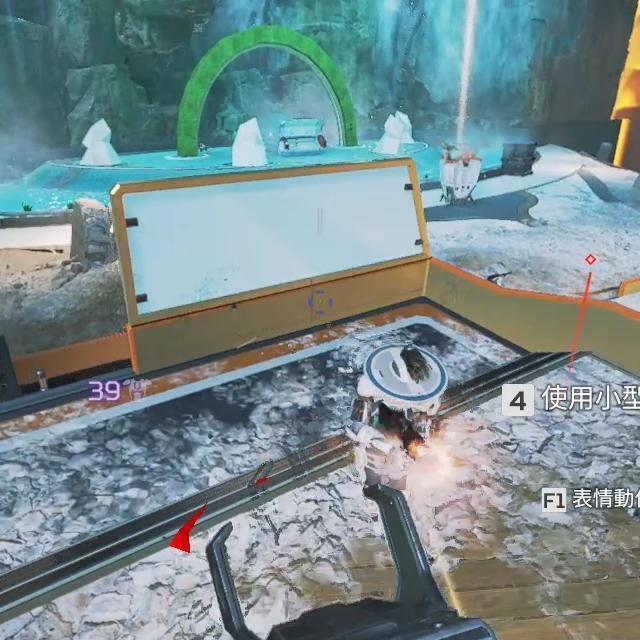avatar: (343, 341, 450, 493)
